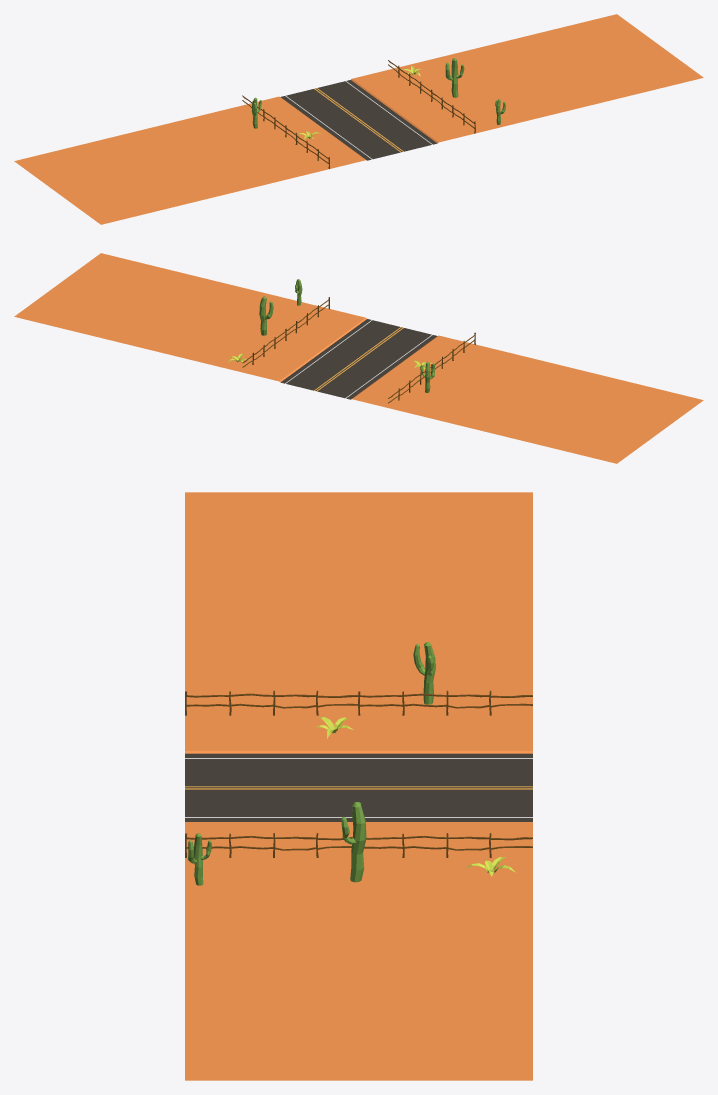
Rendered from DesertRoadStraight.fbx.
The picture shows the model from 3 angles, top to bottom: view 1: azimuth 30°, elevation 25°; view 2: azimuth 150°, elevation 25°; view 3: azimuth 270°, elevation 25°; orthographic projection. The views are drawn at different scales.
Visible parts, largest first — view 1: DRSRoad, DRSWoodFenceRight, DRSWoodFenceLeft, Cactus.005; view 2: DRSRoad, DRSWoodFenceRight, DRSWoodFenceLeft; view 3: DRSRoad, DRSWoodFenceLeft, DRSWoodFenceRight, Cactus.005.
Part boxes in pixels (<box>): DRSRoad: <box>14,14,703,224</box>; DRSWoodFenceRight: <box>388,60,475,133</box>; DRSWoodFenceLeft: <box>242,95,329,168</box>; Cactus.005: <box>445,58,464,97</box>; DRSRoad: <box>14,253,703,463</box>; DRSWoodFenceRight: <box>242,297,329,367</box>; DRSWoodFenceLeft: <box>388,332,475,403</box>; DRSRoad: <box>185,492,532,1080</box>; DRSWoodFenceLeft: <box>185,690,532,715</box>; DRSWoodFenceRight: <box>185,833,532,857</box>; Cactus.005: <box>341,802,366,882</box>.
Size of what is drawn, in the model's own units: 12000 by 766 by 3000.
